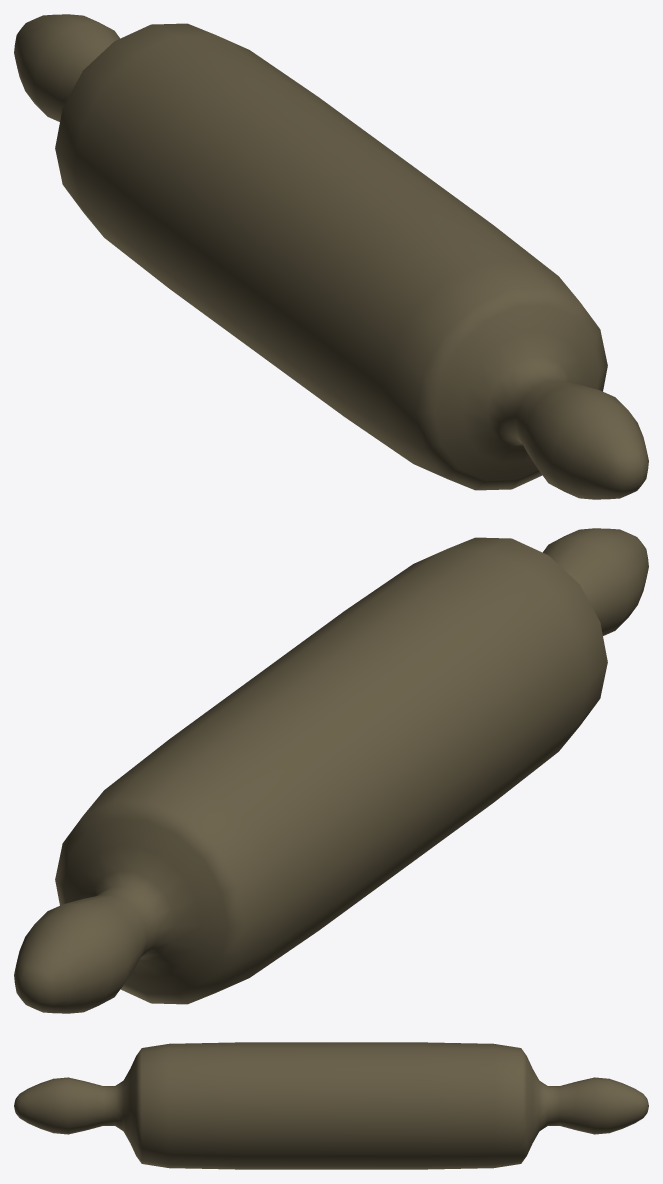
The model's file is rollo.fbx.
3 views of the same model, one above another, from view 1: azimuth 30°, elevation 25°; view 2: azimuth 150°, elevation 25°; view 3: azimuth 270°, elevation 25° (orthographic). The views are drawn at different scales.
Visible parts, largest first — view 1: pCylinder3; view 2: pCylinder3; view 3: pCylinder3.
Boxes of the visible parts, x1,y1,x2,y2 form: pCylinder3: [14, 14, 648, 499]; pCylinder3: [14, 528, 648, 1013]; pCylinder3: [14, 1042, 648, 1169].
Bounding box in the file's own units: 3.33 × 3.33 × 16.58.
